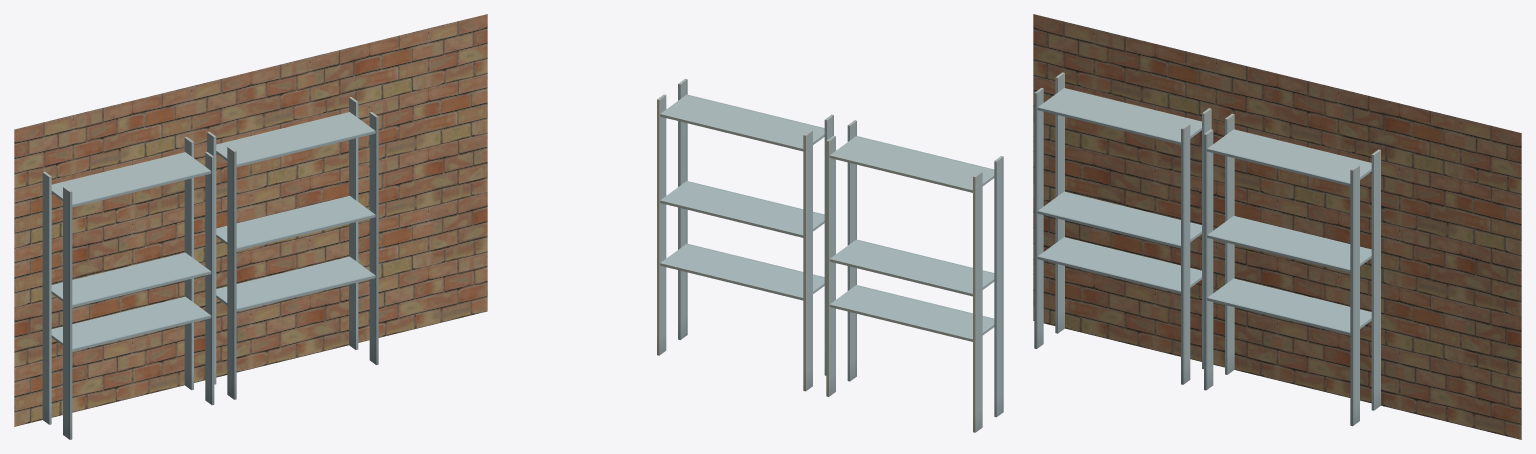
The model's file is teen20.gltf.
The picture shows the model from 3 angles, left to right: view 1: azimuth 30°, elevation 25°; view 2: azimuth 150°, elevation 25°; view 3: azimuth 330°, elevation 25°; orthographic projection. The views are drawn at different scales.
Parts seen in each view (by area): view 1: teen20; view 2: teen20; view 3: teen20.
Part boxes in pixels (x1,y1,x2,y2): teen20: [14, 14, 487, 439]; teen20: [657, 79, 1003, 432]; teen20: [1033, 14, 1521, 439].
Size of the model in its own units: 400 by 240 by 40.
Materials: 2 (2 with a texture image).
